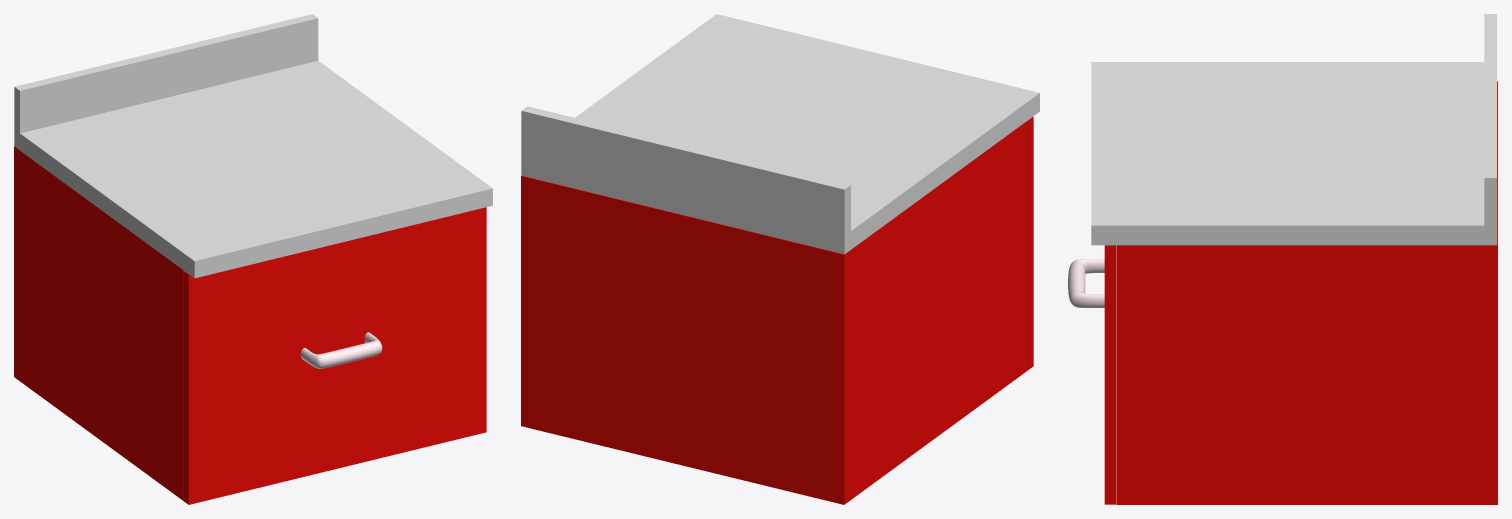
The model's file is counter.fbx.
The picture shows the model from 3 angles, left to right: view 1: azimuth 30°, elevation 25°; view 2: azimuth 150°, elevation 25°; view 3: azimuth 270°, elevation 25°; orthographic projection. The views are drawn at different scales.
Visible parts, largest first — view 1: CounterTop, Cabinet1_Door, Cabinet1, Handle; view 2: Cabinet1, CounterTop, Cabinet1_Door; view 3: Cabinet1, CounterTop, Cabinet1_Door, Handle.
Boxes of the visible parts, bbox=[...] form: CounterTop: bbox=[14, 14, 492, 278]; Cabinet1_Door: bbox=[183, 207, 486, 504]; Cabinet1: bbox=[14, 146, 183, 500]; Handle: bbox=[300, 332, 382, 368]; Cabinet1: bbox=[521, 121, 1027, 504]; CounterTop: bbox=[521, 14, 1039, 254]; Cabinet1_Door: bbox=[1027, 117, 1033, 369]; Cabinet1: bbox=[1116, 81, 1497, 504]; CounterTop: bbox=[1091, 14, 1496, 245]; Cabinet1_Door: bbox=[1104, 245, 1116, 504]; Handle: bbox=[1068, 259, 1104, 307].
Size of the model in its own units: 60.02 by 55.88 by 66.56.
